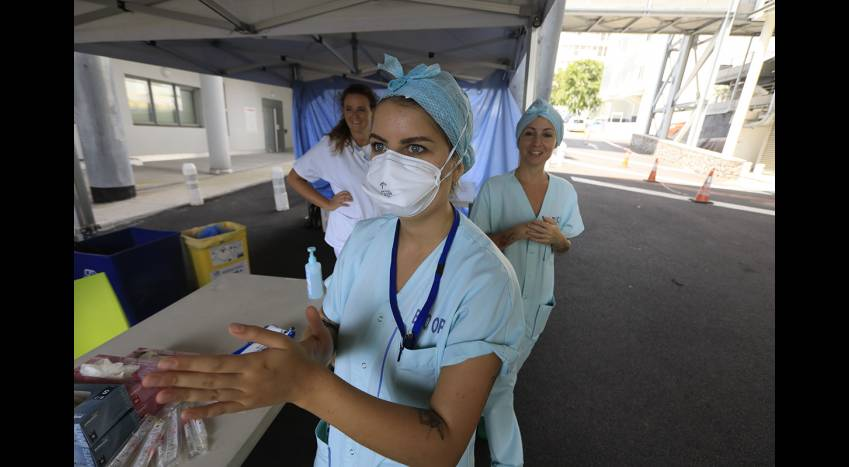with_mask: (371, 104, 451, 212)
without_mask: (518, 120, 554, 165), (343, 92, 367, 132)
